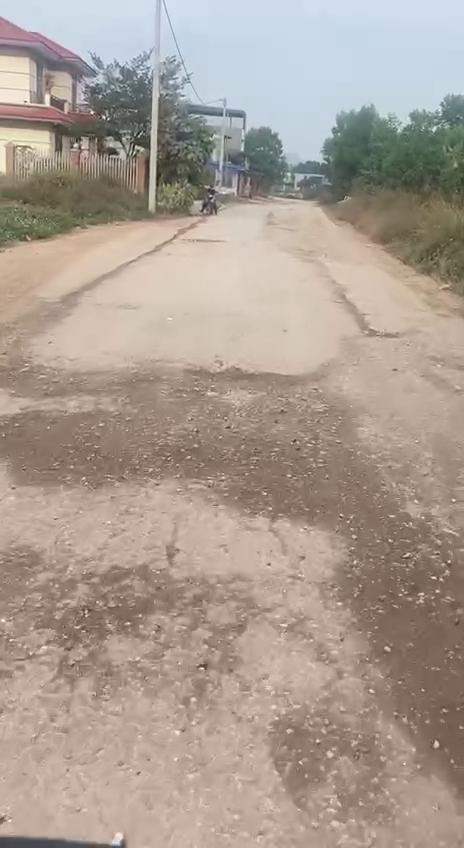pothole: (0, 402, 162, 492), (188, 374, 332, 451)
